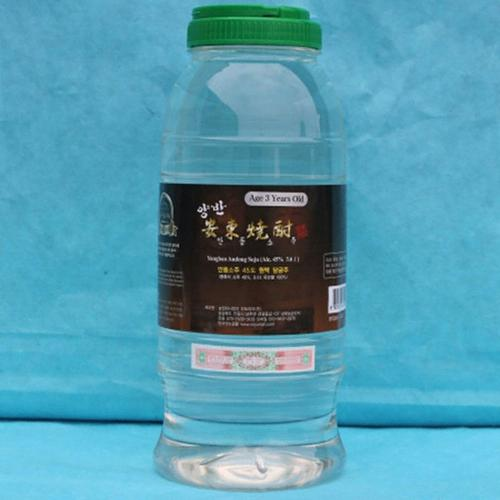soju: (144, 8, 357, 493)
